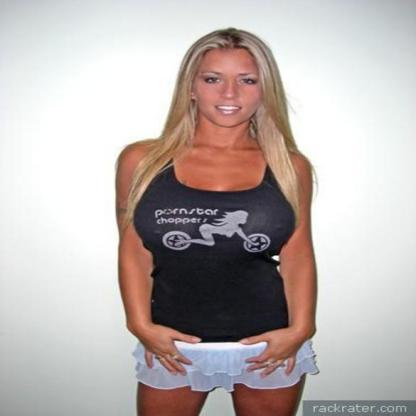long-hair: (147, 129, 299, 149)
